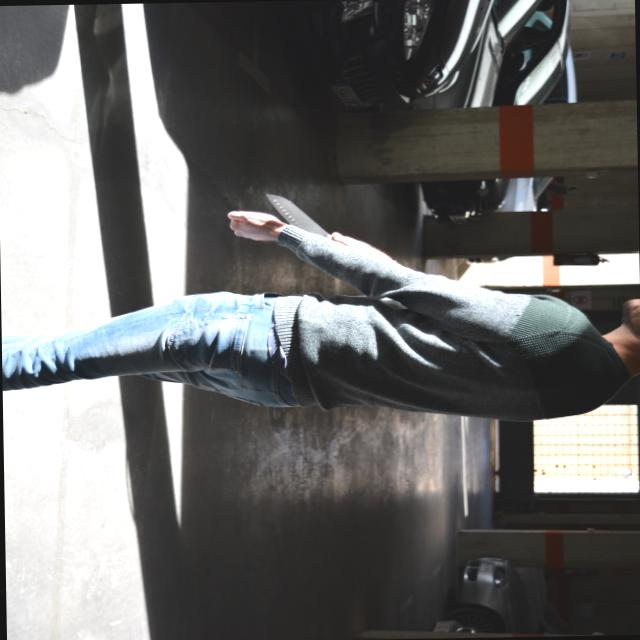knife: (260, 190, 334, 240)
